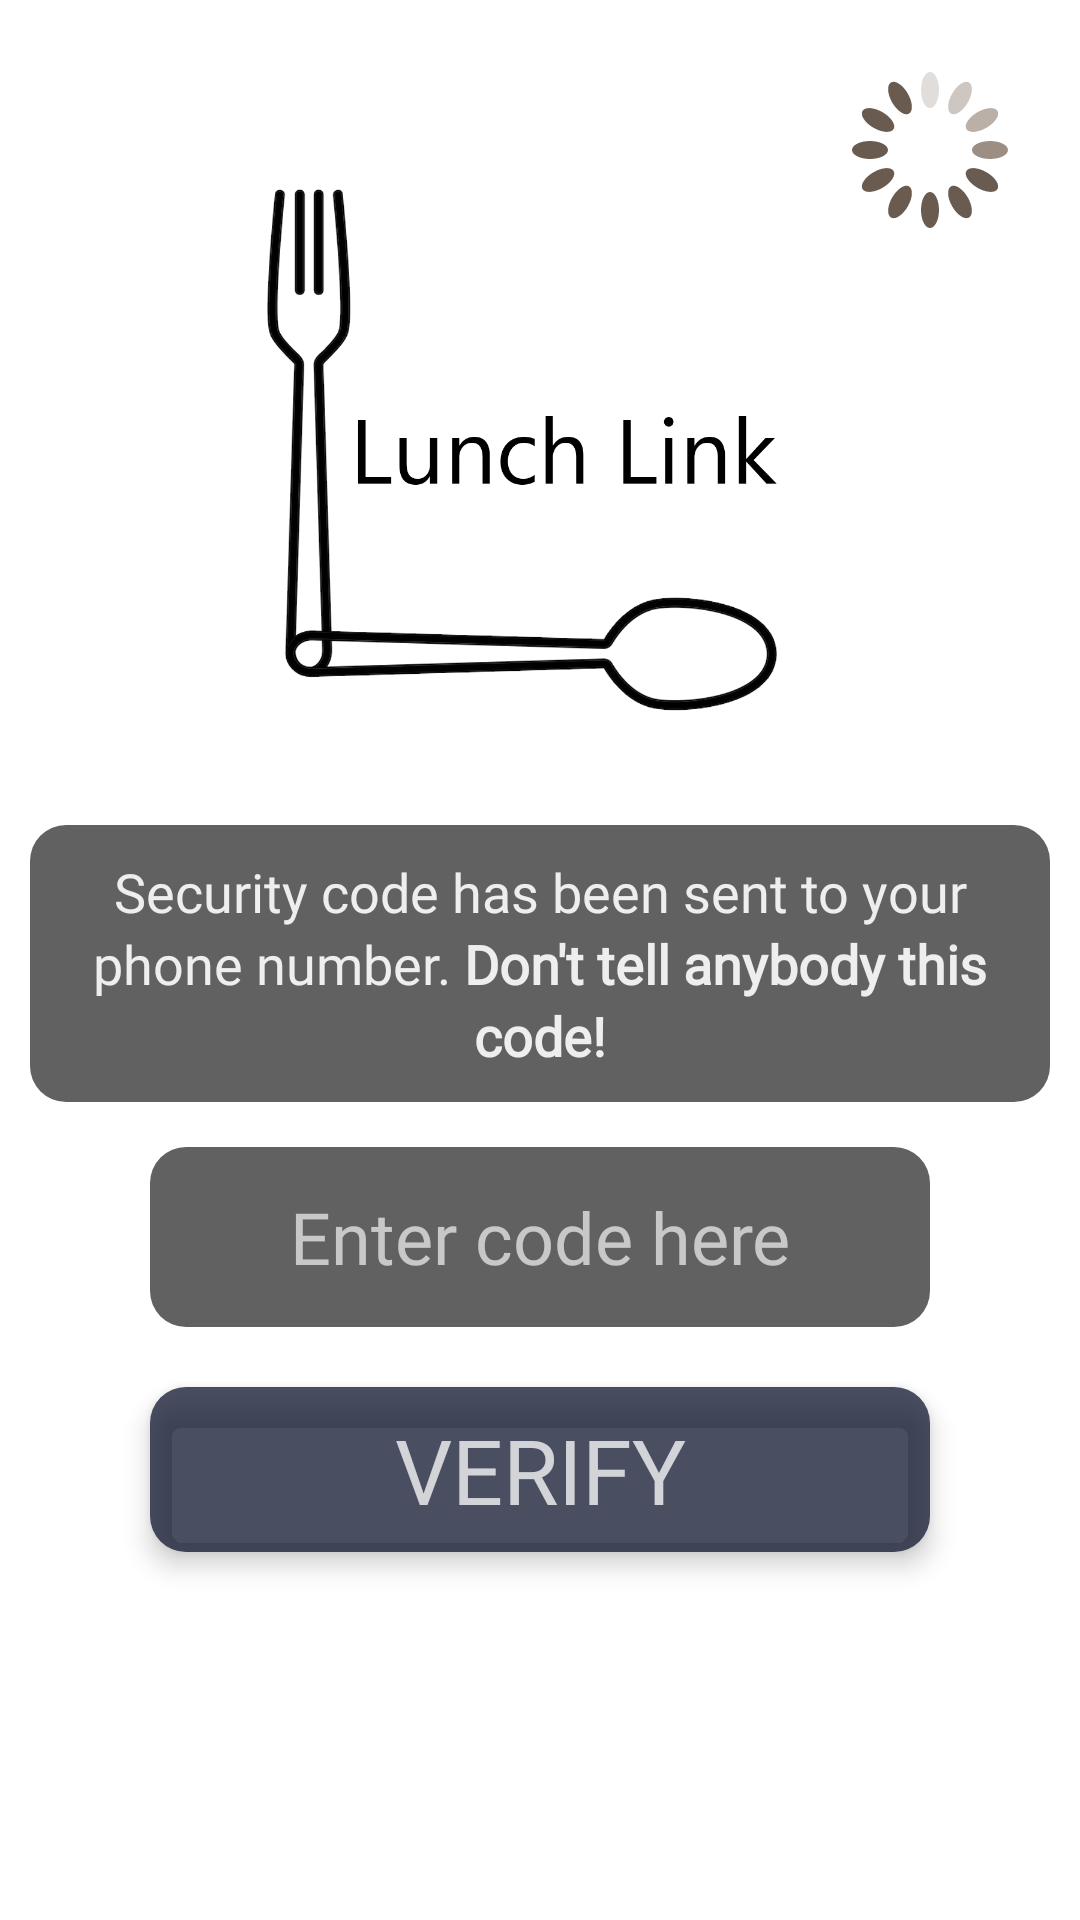

Screen size 1080w x 1920h. Icon name, then its box in pixels as [left=x1, top=y1, right=x2, bottom=y2]:
spin loading: [left=852, top=72, right=1008, bottom=228]
